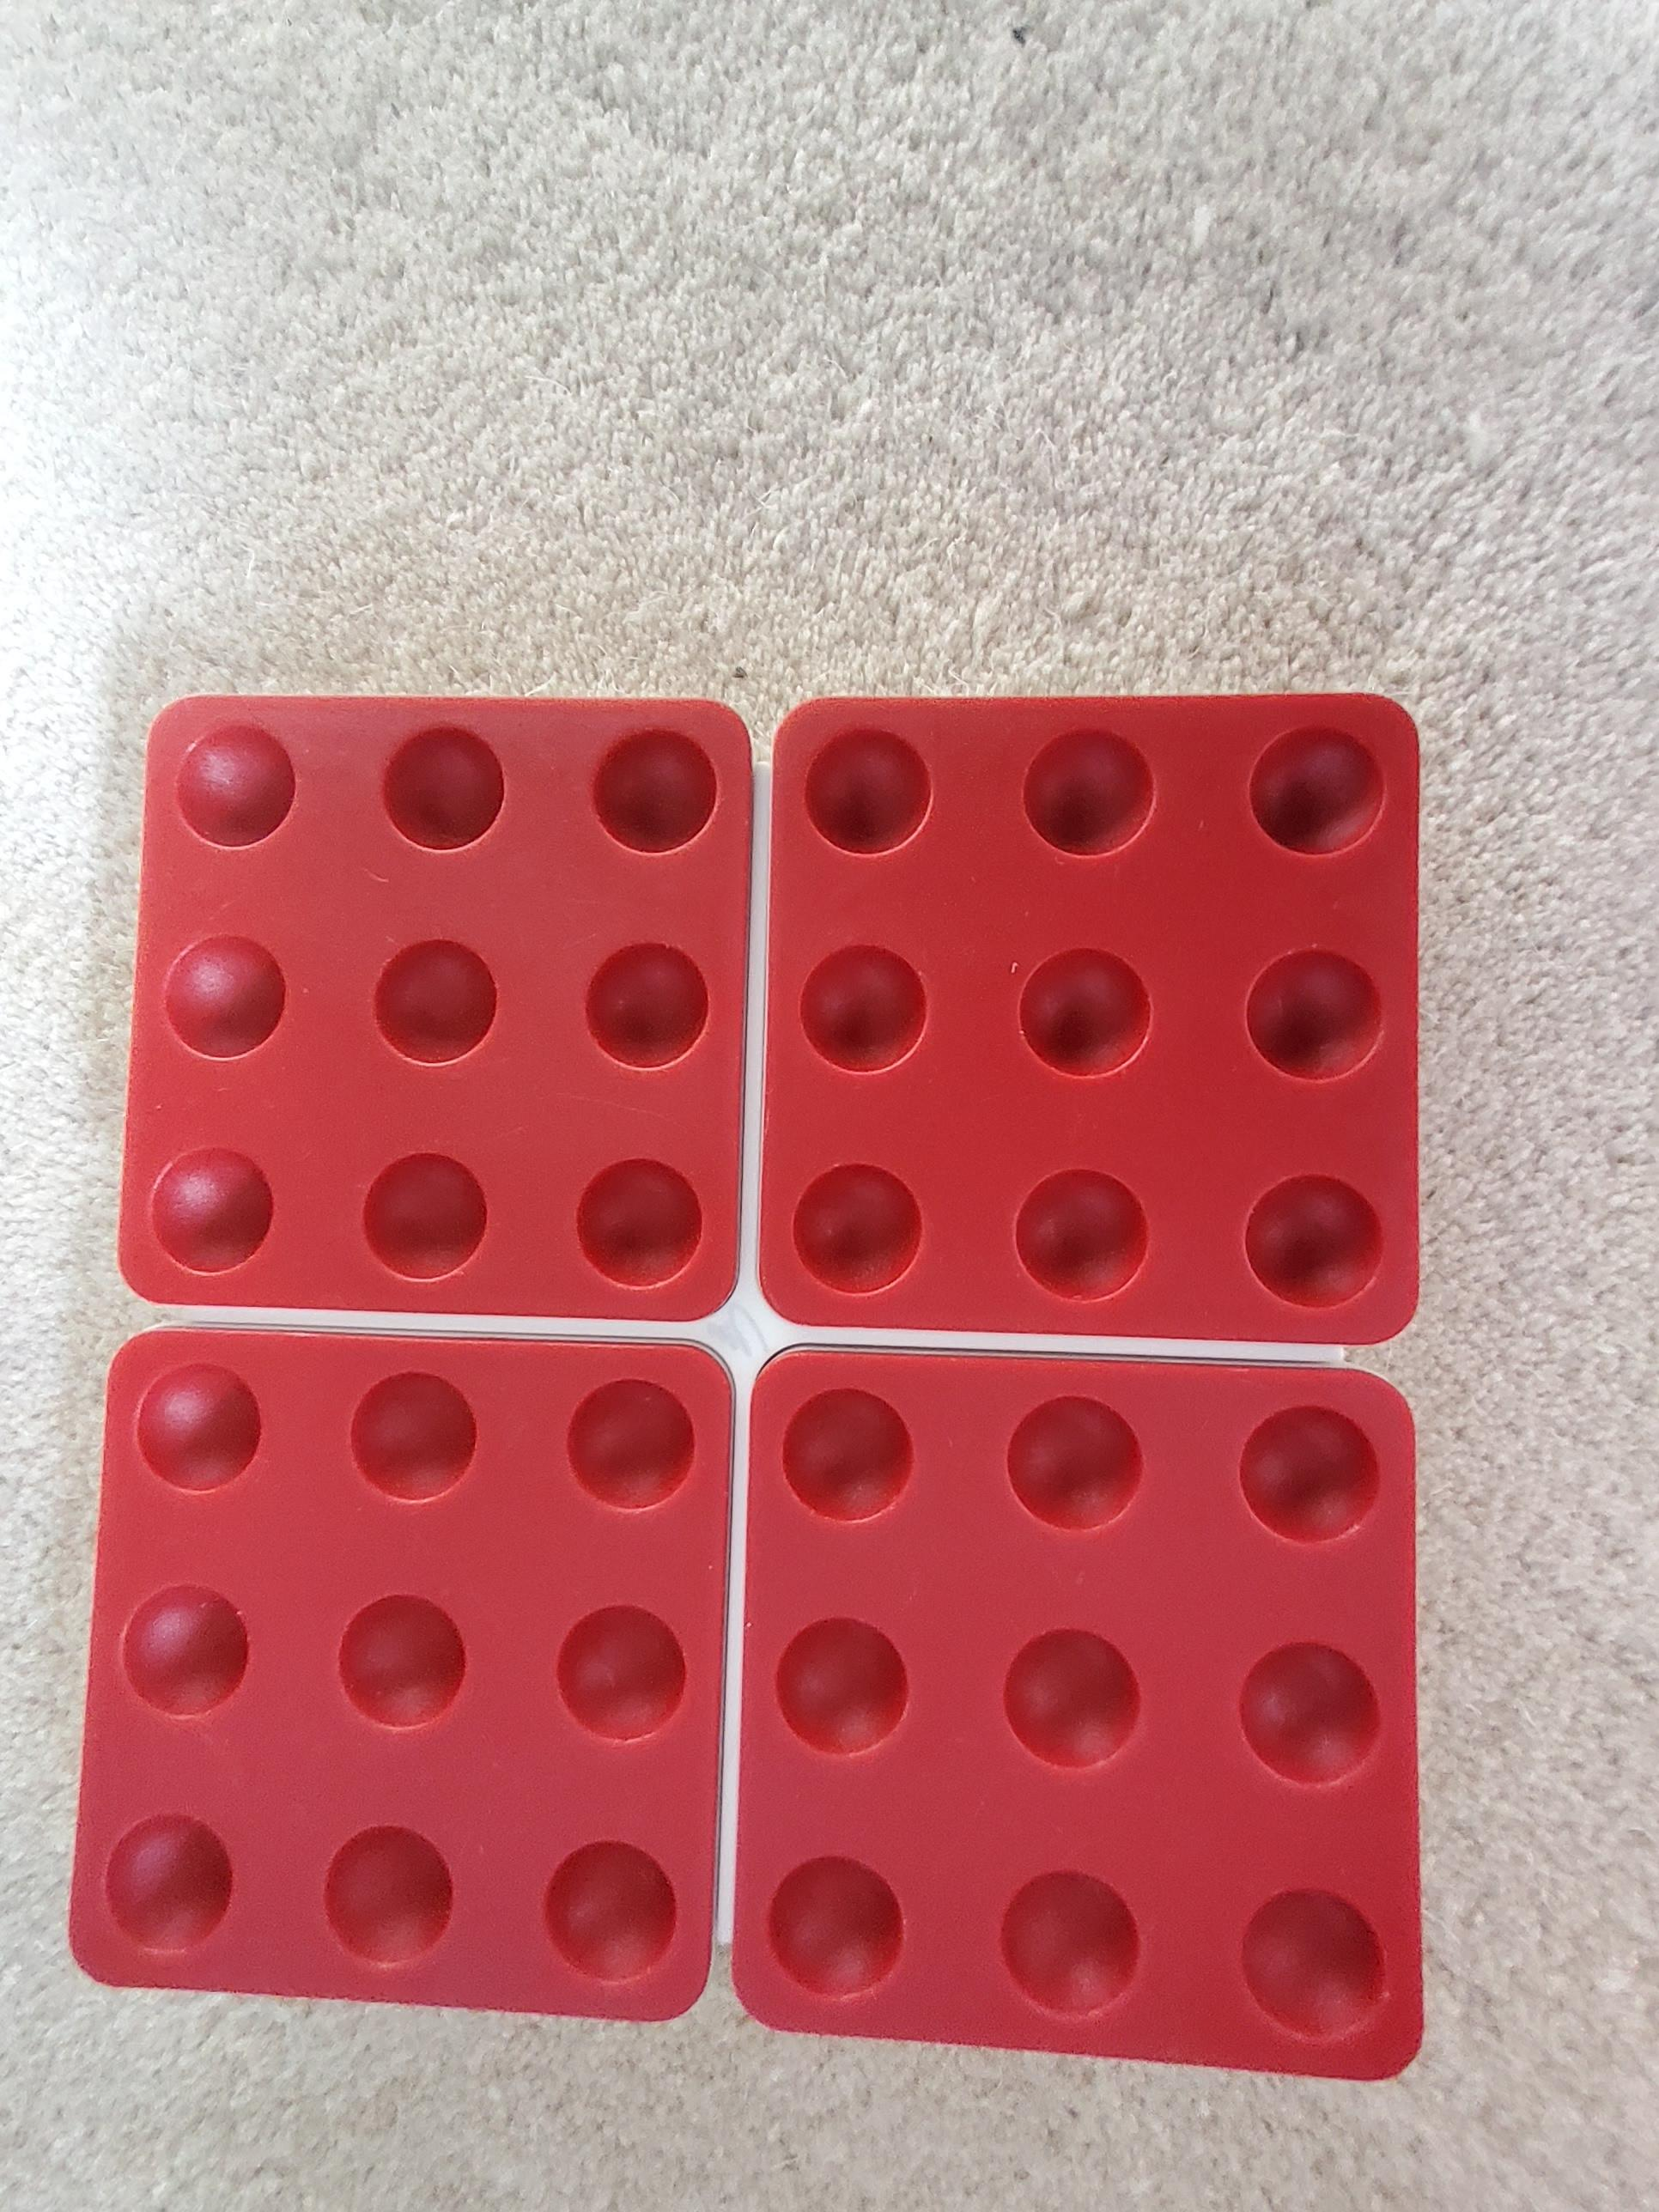schaak: (58, 685, 1434, 2074)
